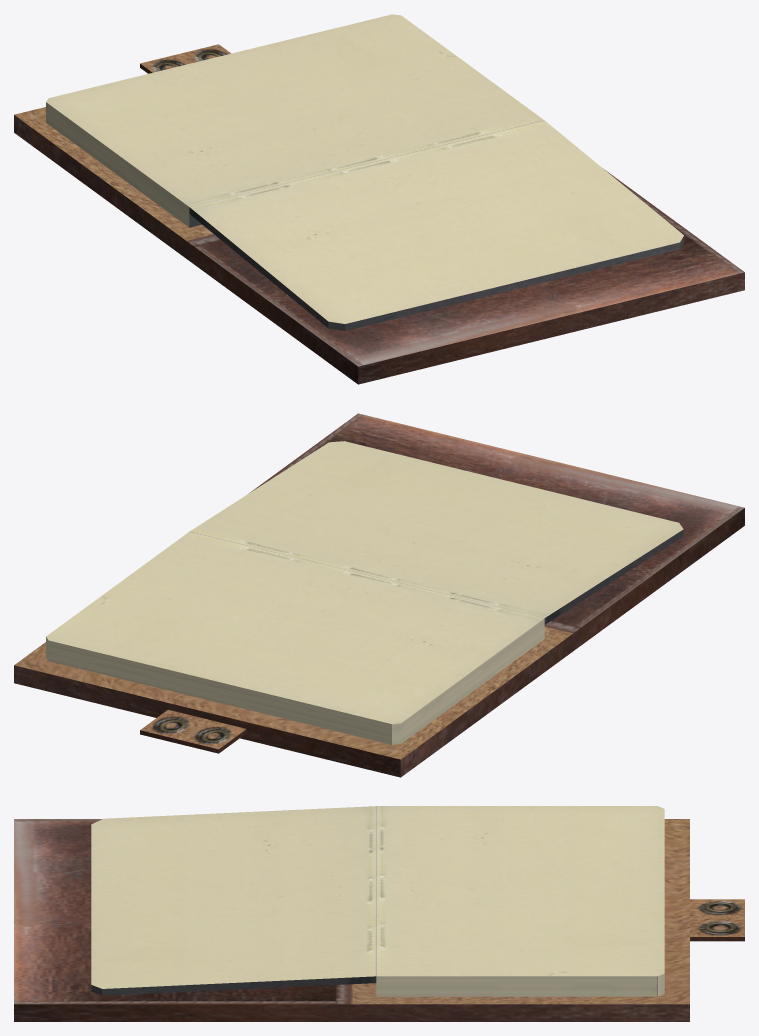
File: ps1_leather_notebook_open.fbx
The picture shows the model from 3 angles, top to bottom: view 1: azimuth 30°, elevation 25°; view 2: azimuth 150°, elevation 25°; view 3: azimuth 270°, elevation 25°; orthographic projection.
Parts seen in each view (by area): view 1: Cube; view 2: Cube; view 3: Cube.
Boxes of the visible parts, x1,y1,x2,y2 form: Cube: [14, 14, 744, 384]; Cube: [14, 413, 744, 777]; Cube: [14, 806, 744, 1021].
Bounding box in the file's own units: 200 × 19.08 × 333.
